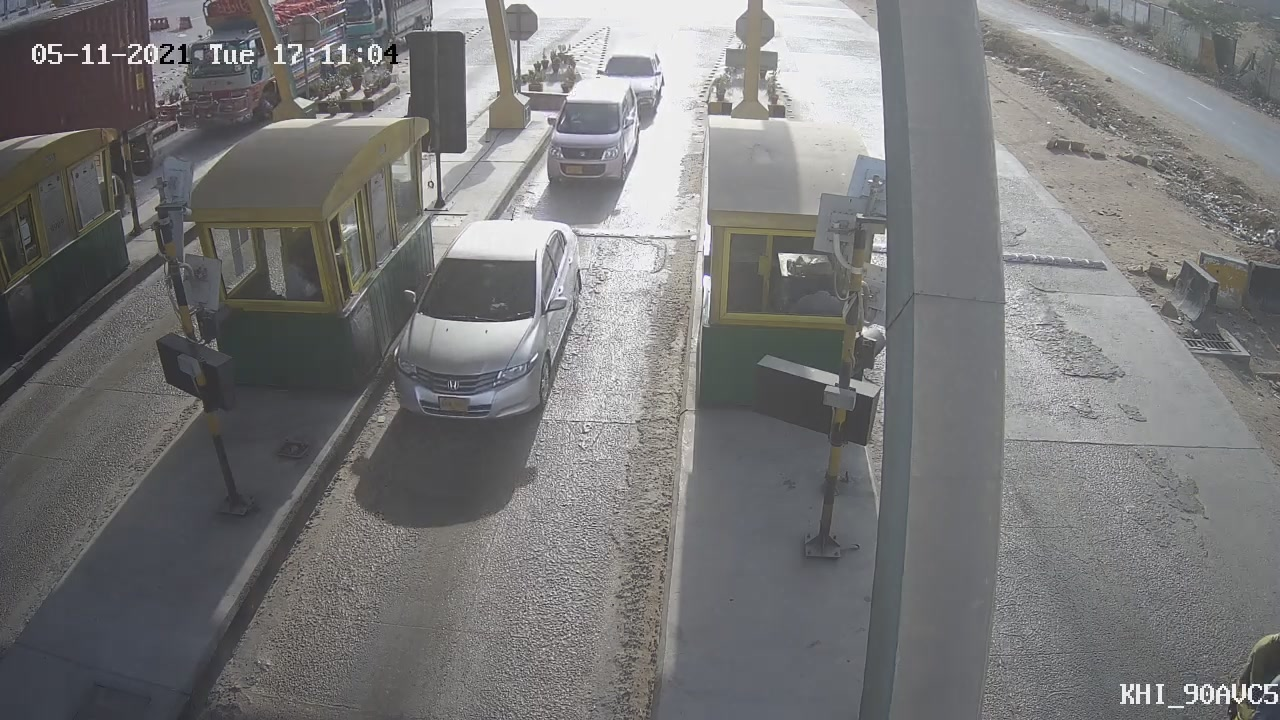F1: (365, 196, 603, 439), (525, 68, 659, 200)
